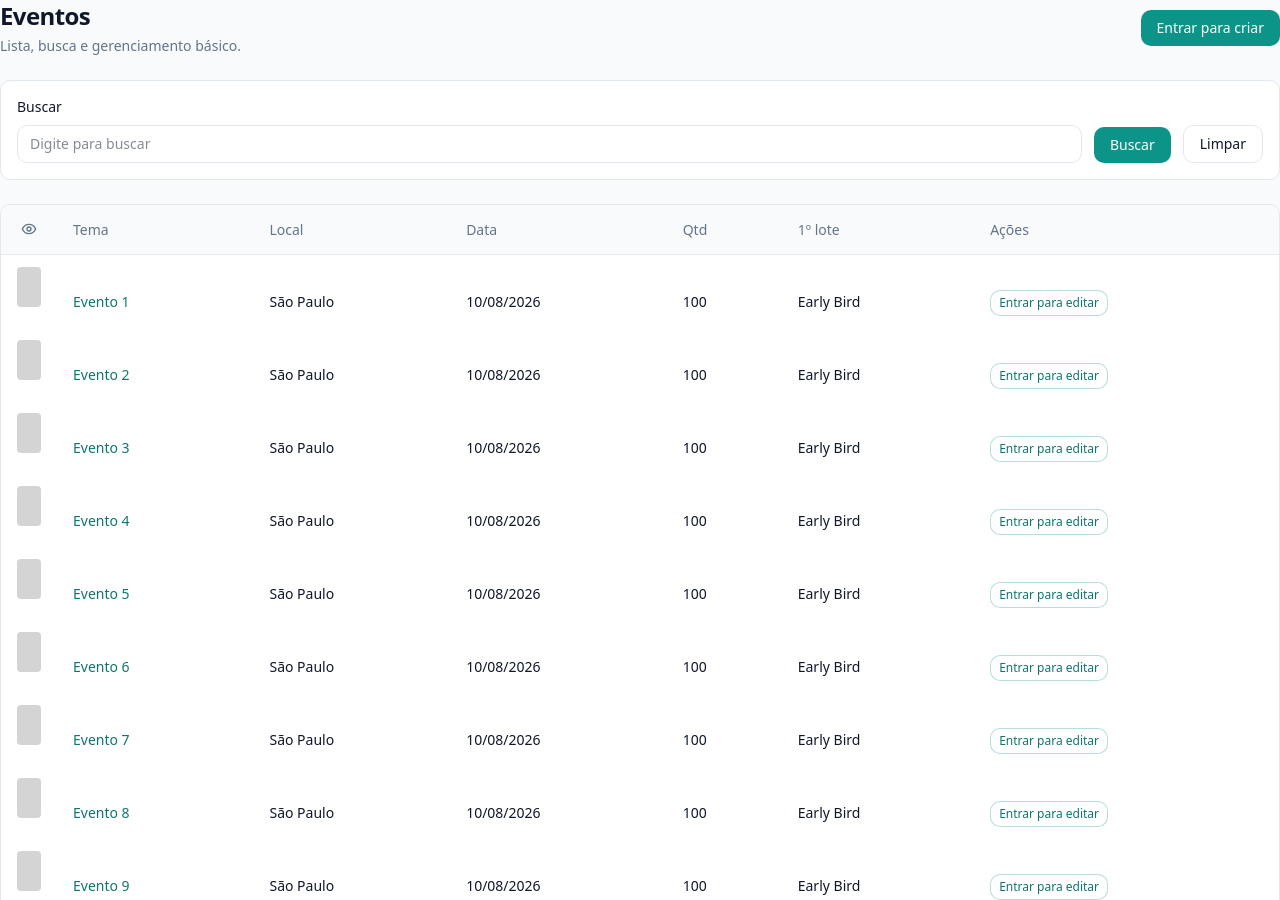
EventosPage › pagina resultados e alterna coluna de imagens
Click the button named "Ocultar" at (29, 229), box [17, 217, 41, 241]
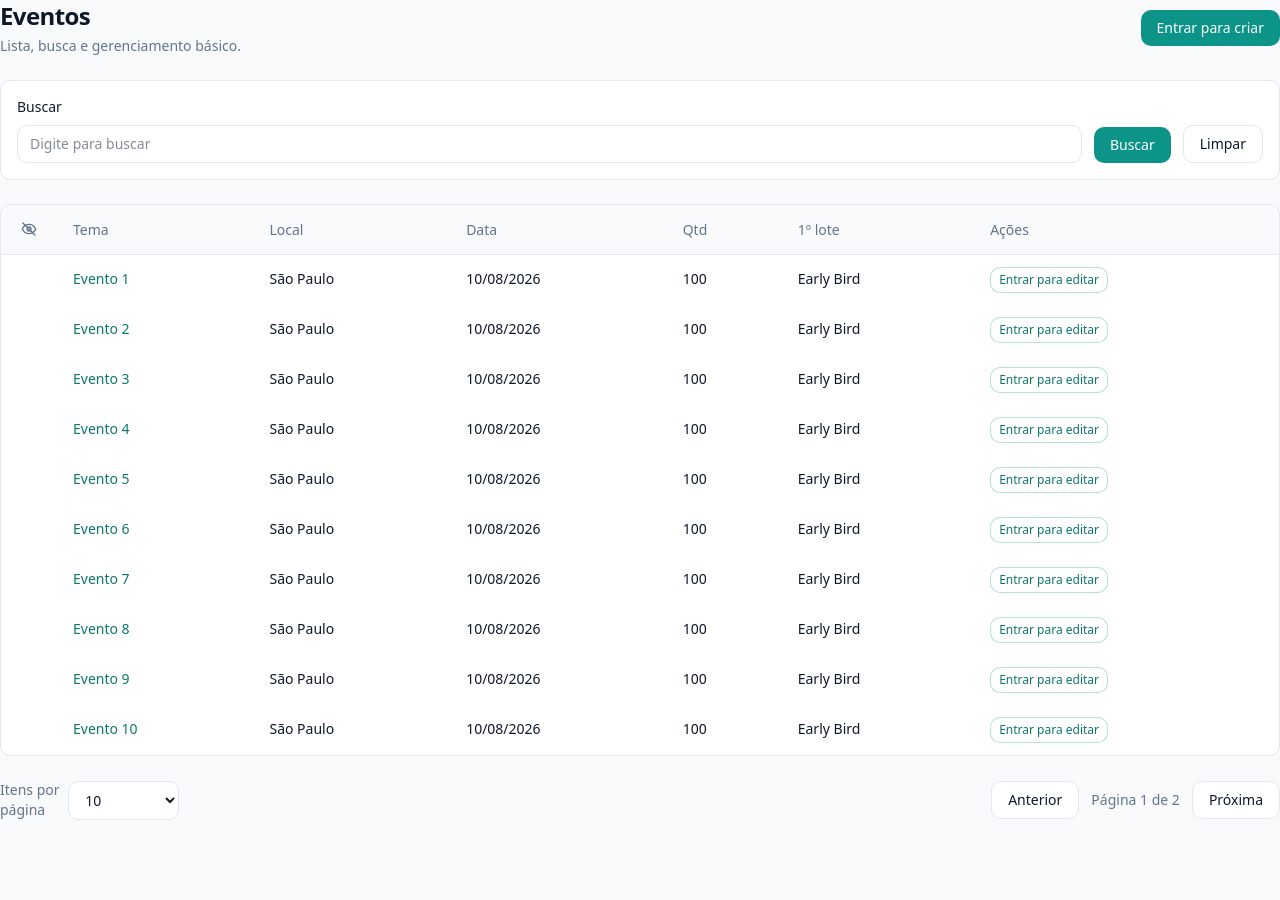
Expected: the button named "Mostrar" is shown, [17, 217, 41, 241]
Click the button "Próxima" at (1236, 800), box [1192, 781, 1279, 819]
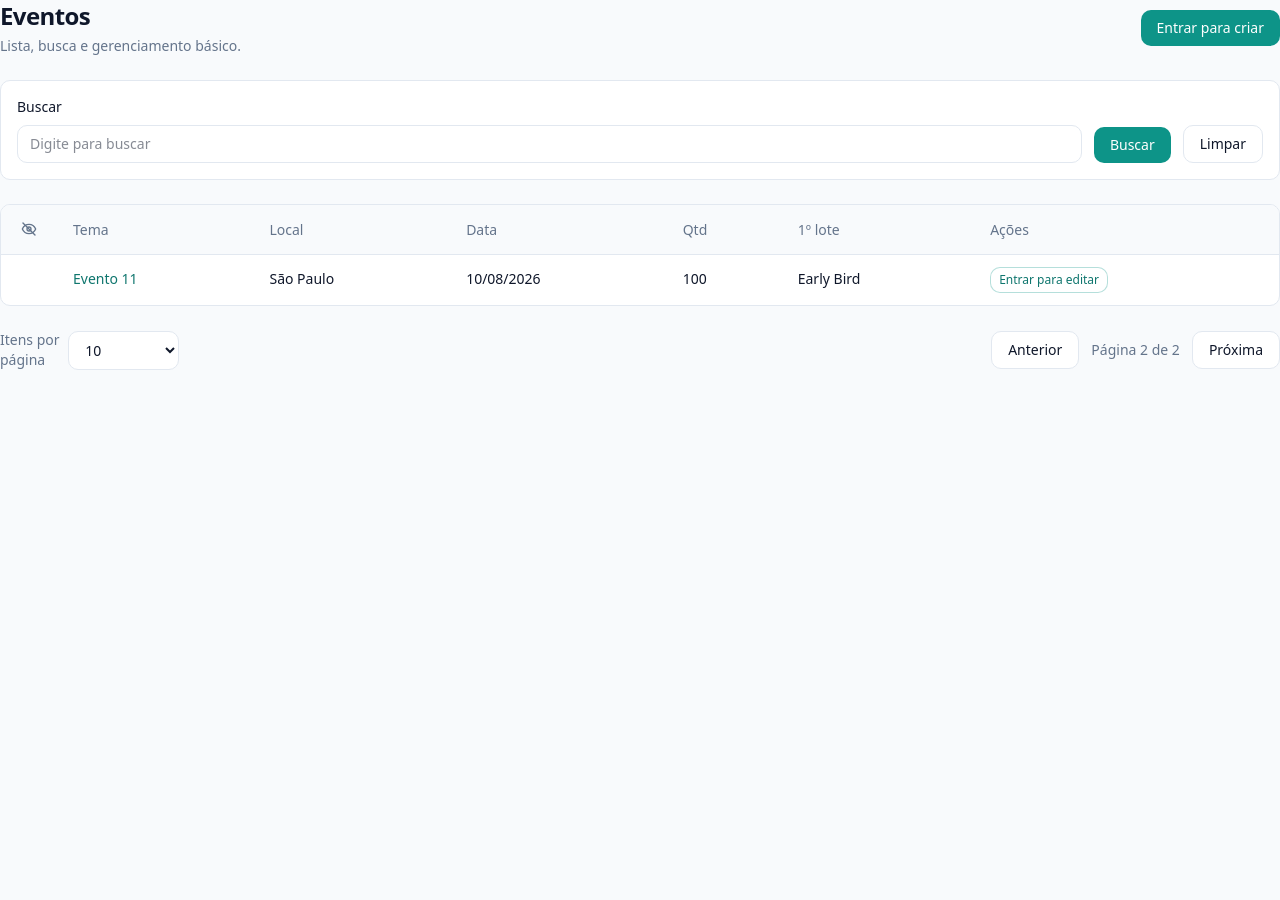
Expected: the link "Evento 11" is shown, [73, 269, 138, 288]
